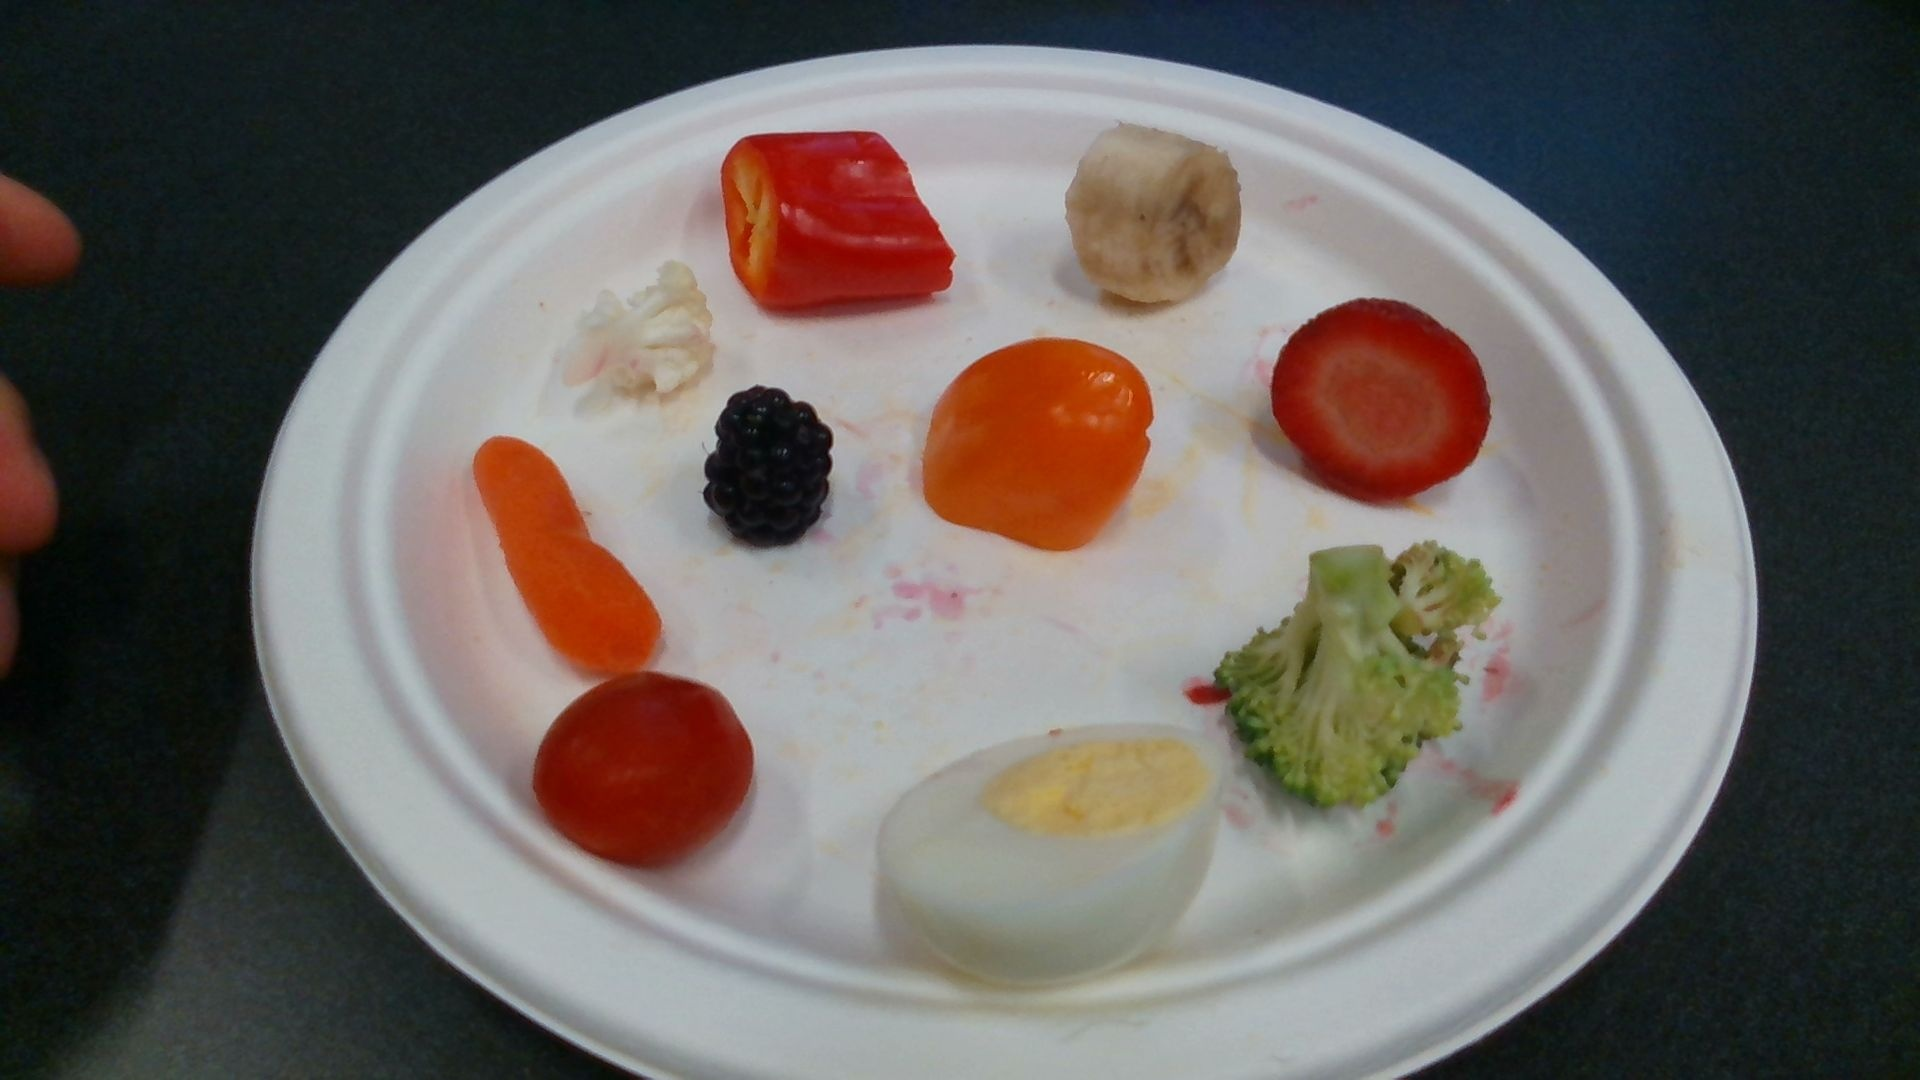bell_pepper: (928, 338, 1153, 553), (723, 131, 952, 303)
blackberry: (707, 392, 833, 541)
broccoli: (1225, 545, 1497, 803)
carrot: (473, 436, 659, 671)
cauliflower: (568, 268, 717, 396)
cherry_tomato: (535, 676, 756, 862)
egg: (880, 725, 1220, 985)
strawberry: (1276, 298, 1490, 501)
